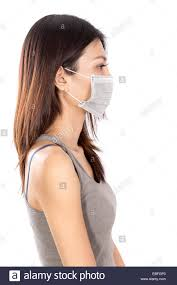with-mask: (24, 12, 122, 130)
